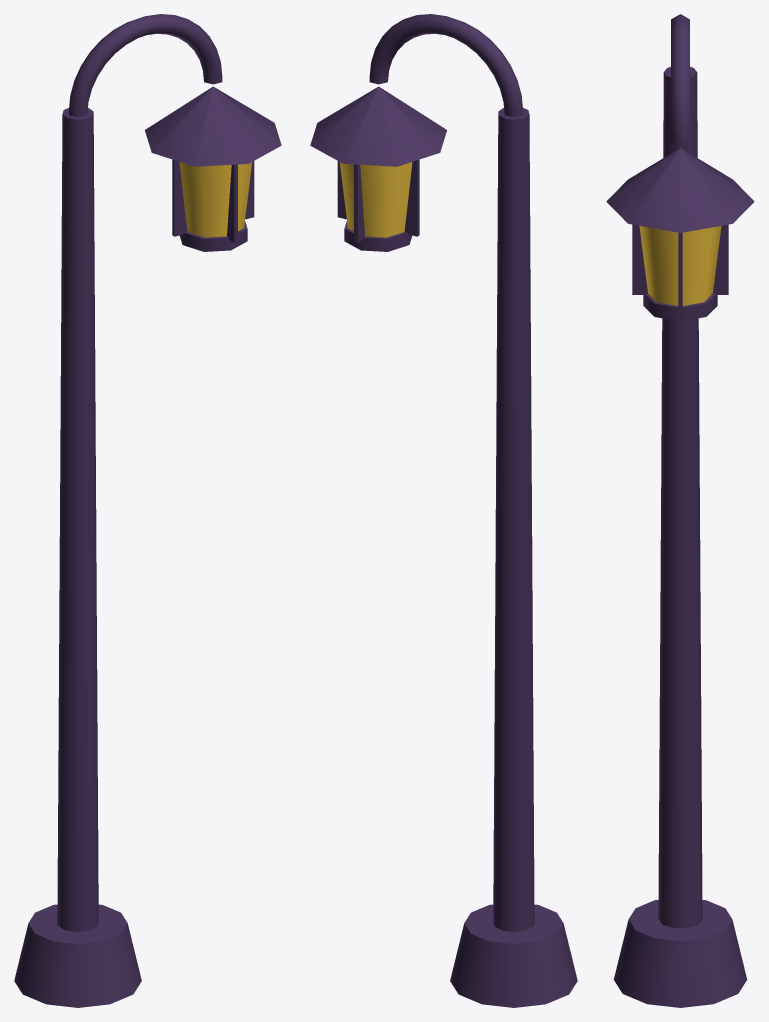
Rendered from lampadaire.glb.
3 renders of one model, left to right at view 1: azimuth 30°, elevation 25°; view 2: azimuth 150°, elevation 25°; view 3: azimuth 270°, elevation 25°, orthographic. The views are drawn at different scales.
Parts seen in each view (by area): view 1: poteau__violet_nuit, lanterne__violet_nuit, lanterne__lum_jaune; view 2: poteau__violet_nuit, lanterne__violet_nuit, lanterne__lum_jaune; view 3: poteau__violet_nuit, lanterne__violet_nuit, lanterne__lum_jaune.
Part boxes in pixels (x1,y1,x2,y2): poteau__violet_nuit: (14, 14, 222, 1007); lanterne__violet_nuit: (145, 86, 281, 251); lanterne__lum_jaune: (179, 162, 252, 237); poteau__violet_nuit: (369, 14, 577, 1007); lanterne__violet_nuit: (310, 86, 446, 251); lanterne__lum_jaune: (339, 162, 412, 237); poteau__violet_nuit: (613, 14, 747, 1007); lanterne__violet_nuit: (606, 148, 754, 321); lanterne__lum_jaune: (639, 226, 721, 305).
Bounding box in the file's own units: 0.7644 × 2.75 × 0.3729.
